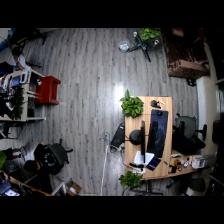normal: (21, 141, 71, 176), (10, 43, 30, 73)
